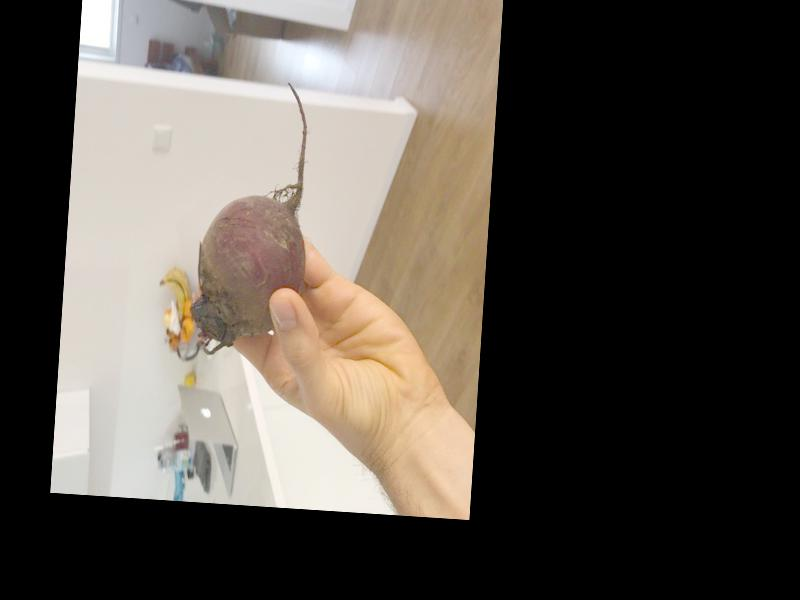Beet: (189, 76, 315, 359)
